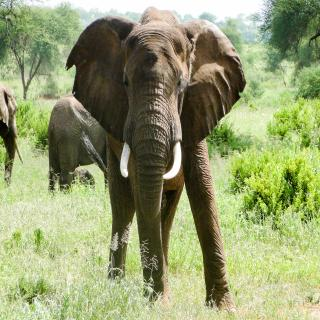Elephant: (67, 5, 251, 320)
